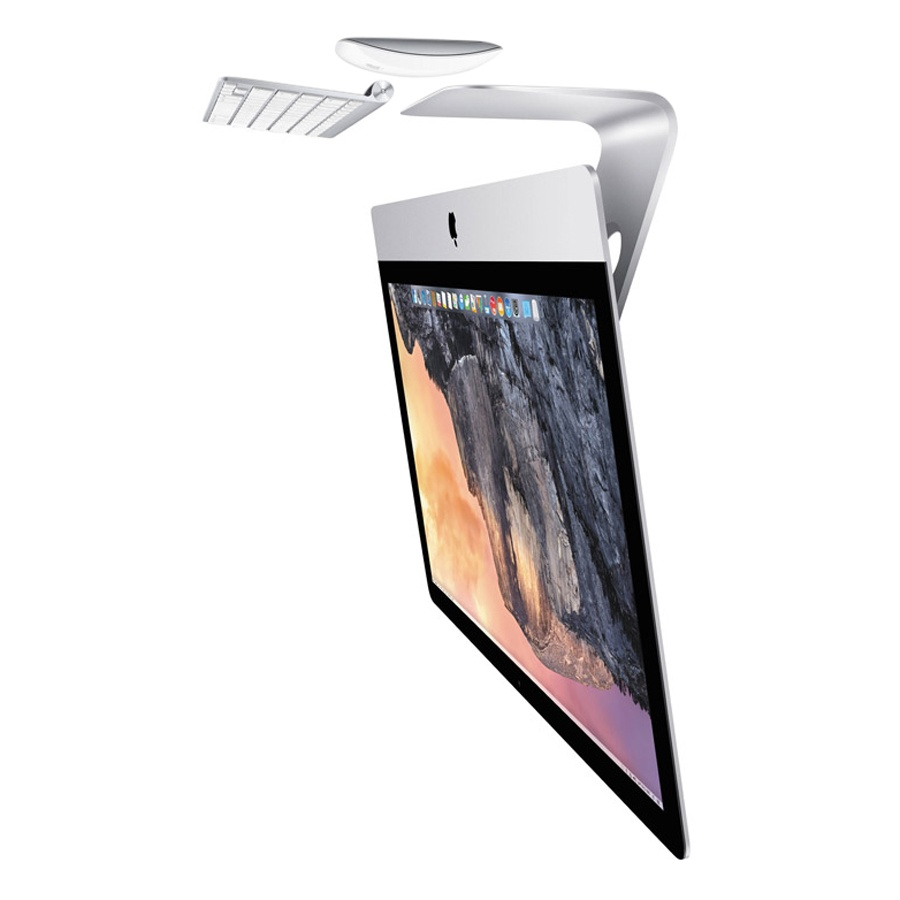Apple: (390, 172, 518, 280)
